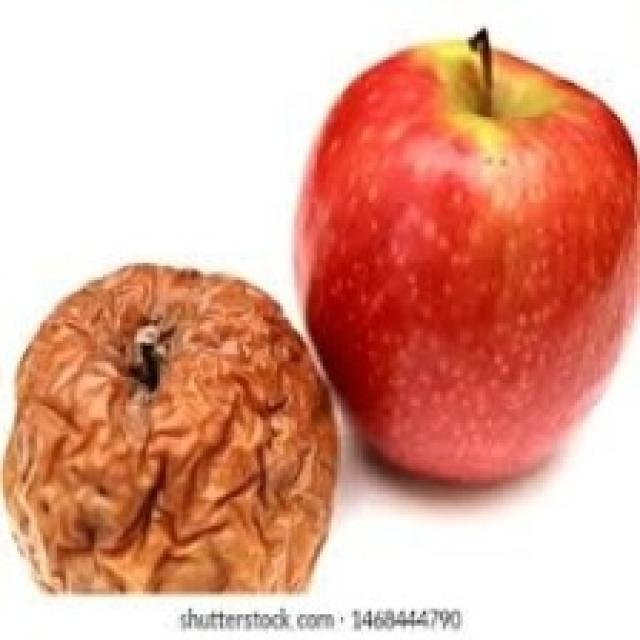rotten_apple: (7, 265, 340, 586)
